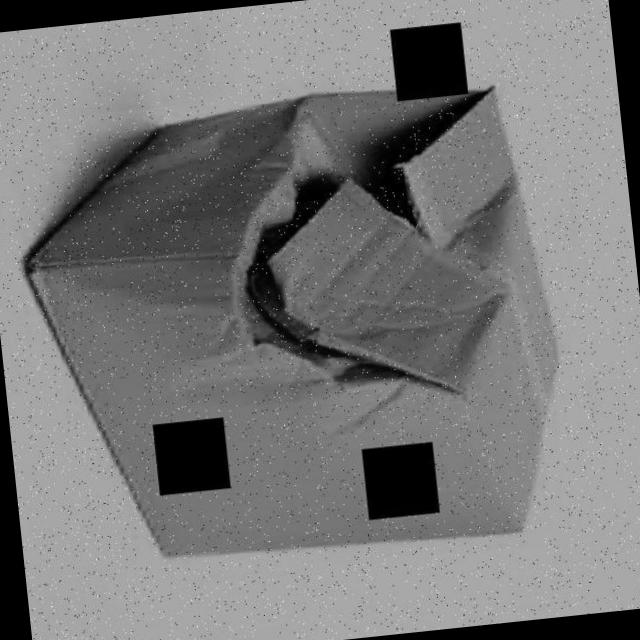box: (0, 66, 585, 589)
